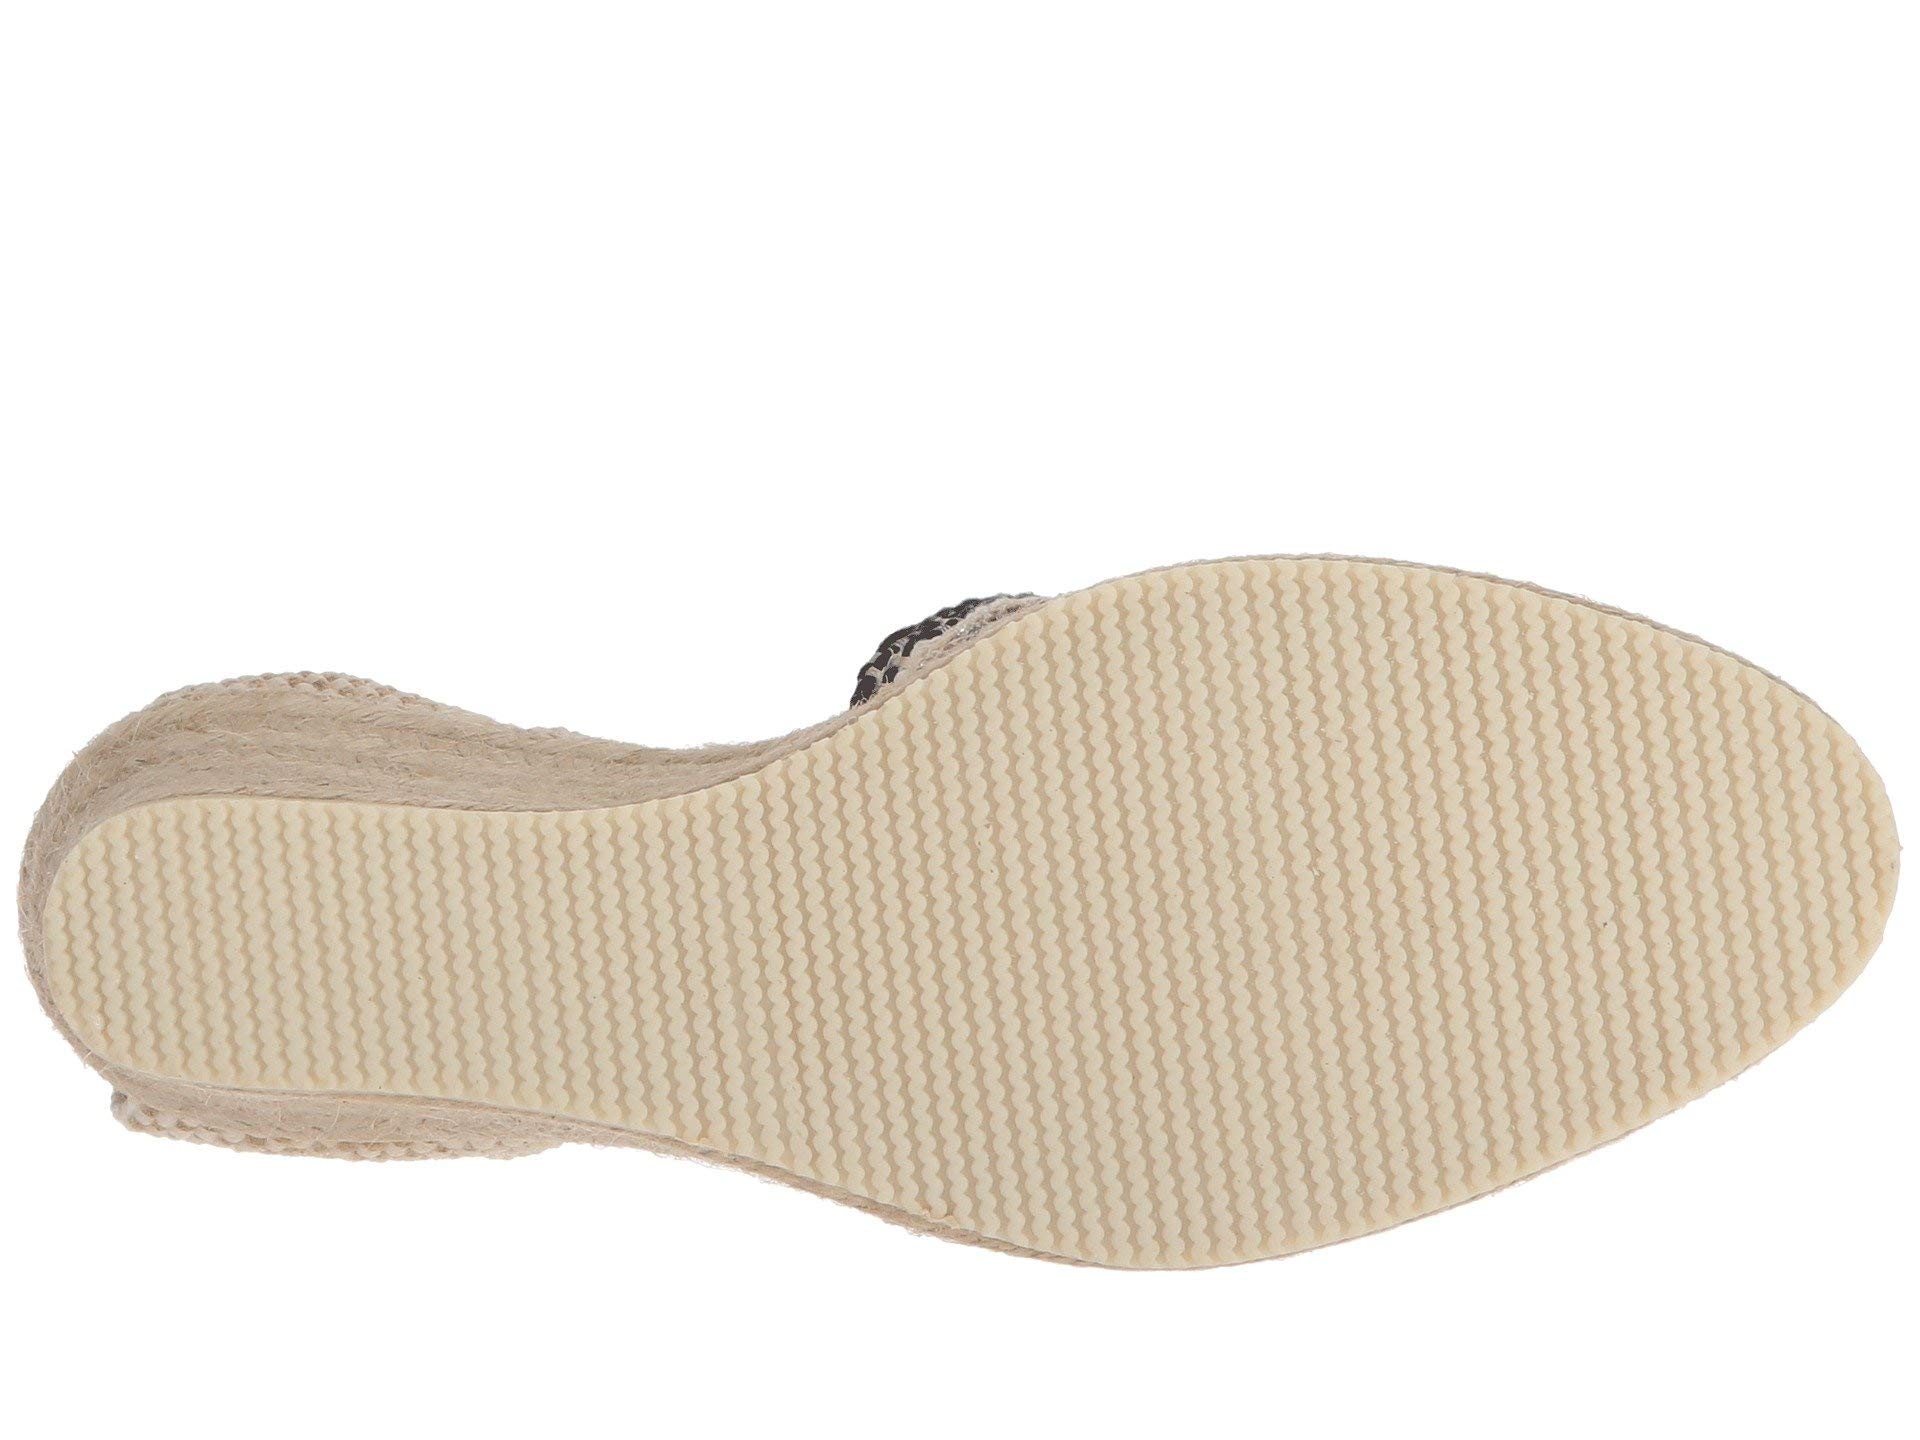chevron: (909, 672, 1376, 1144), (1370, 663, 1699, 1030)
